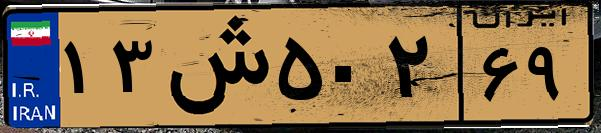0: (330, 28, 385, 110)
1: (57, 26, 110, 100)
2: (385, 28, 445, 110)
3: (110, 28, 158, 98)
5: (270, 28, 330, 110)
6: (475, 38, 525, 113)
9: (525, 38, 570, 115)
ش: (158, 12, 270, 120)
